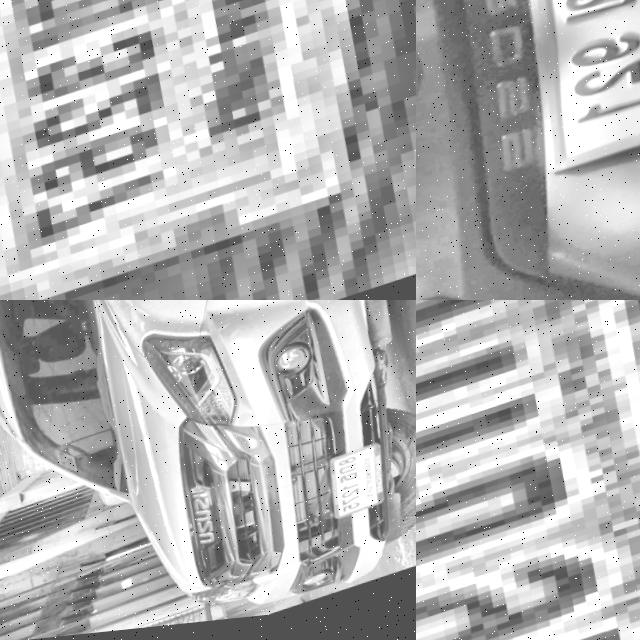license-plate: (0, 0, 416, 300), (416, 300, 640, 640), (497, 0, 640, 190), (322, 446, 409, 535)
